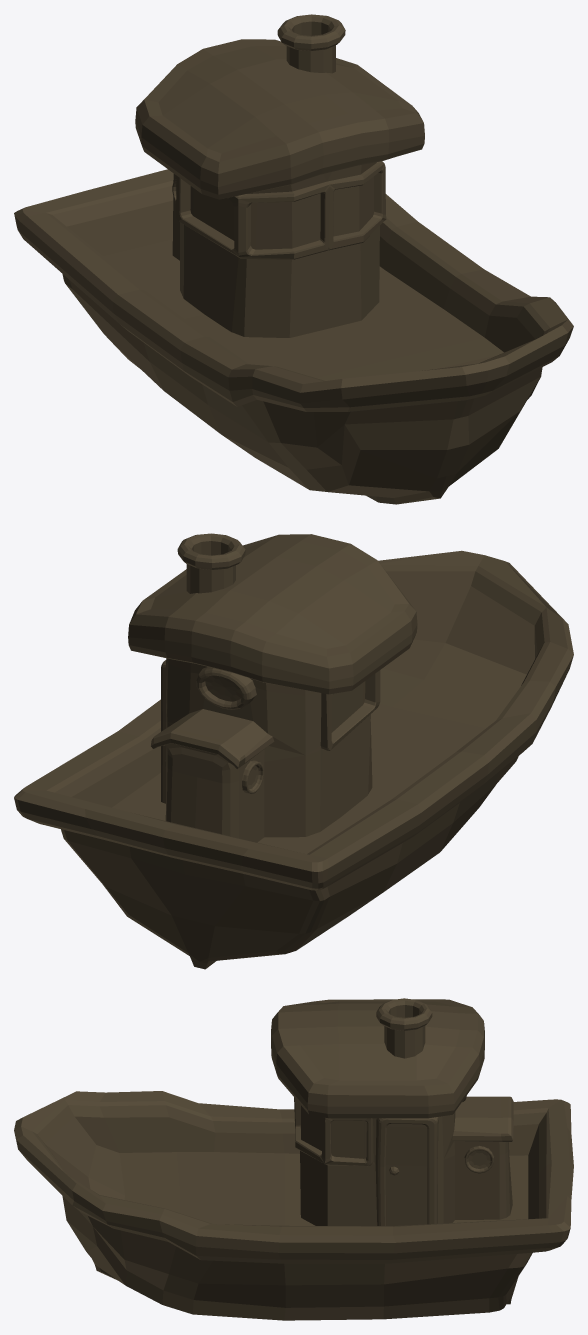
File: Boat02.fbx
The picture shows the model from 3 angles, top to bottom: view 1: azimuth 30°, elevation 25°; view 2: azimuth 150°, elevation 25°; view 3: azimuth 270°, elevation 25°; orthographic projection. The views are drawn at different scales.
Parts seen in each view (by area): view 1: boat1; view 2: boat1; view 3: boat1.
Part boxes in pixels (x1,y1,x2,y2): boat1: [14, 14, 573, 504]; boat1: [14, 533, 573, 969]; boat1: [14, 998, 573, 1320].
Size of the model in its own units: 6.4 by 7.59 by 11.7.
